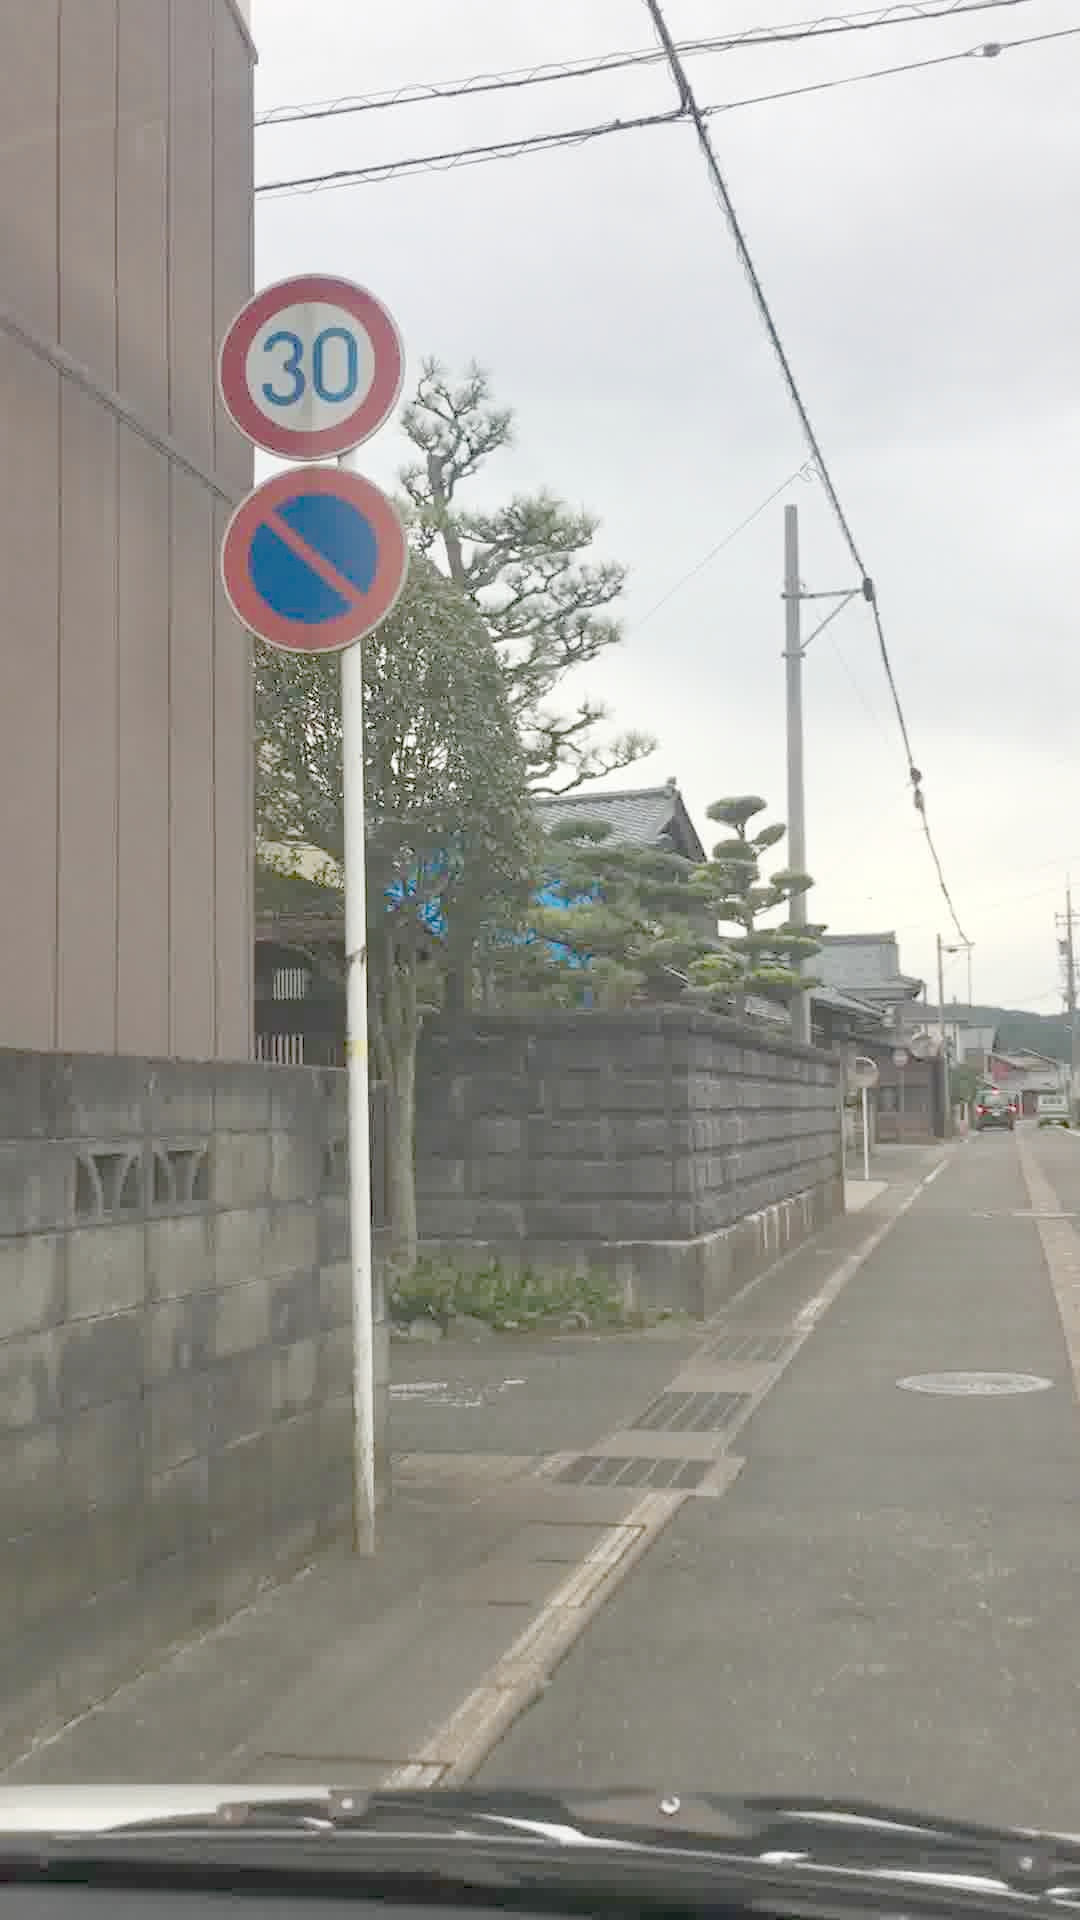Prohibition_sign: (220, 450, 456, 676)
Speed_sign: (220, 264, 418, 483)
